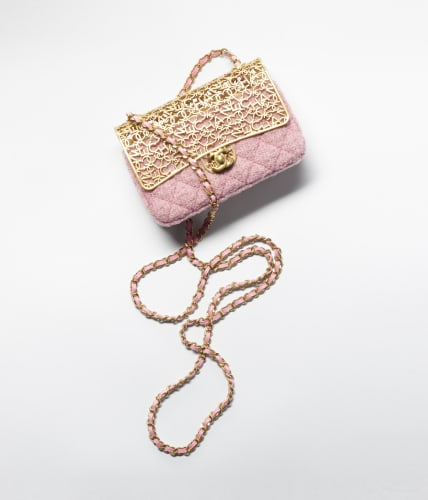channel: (116, 69, 330, 241), (197, 145, 250, 176)
